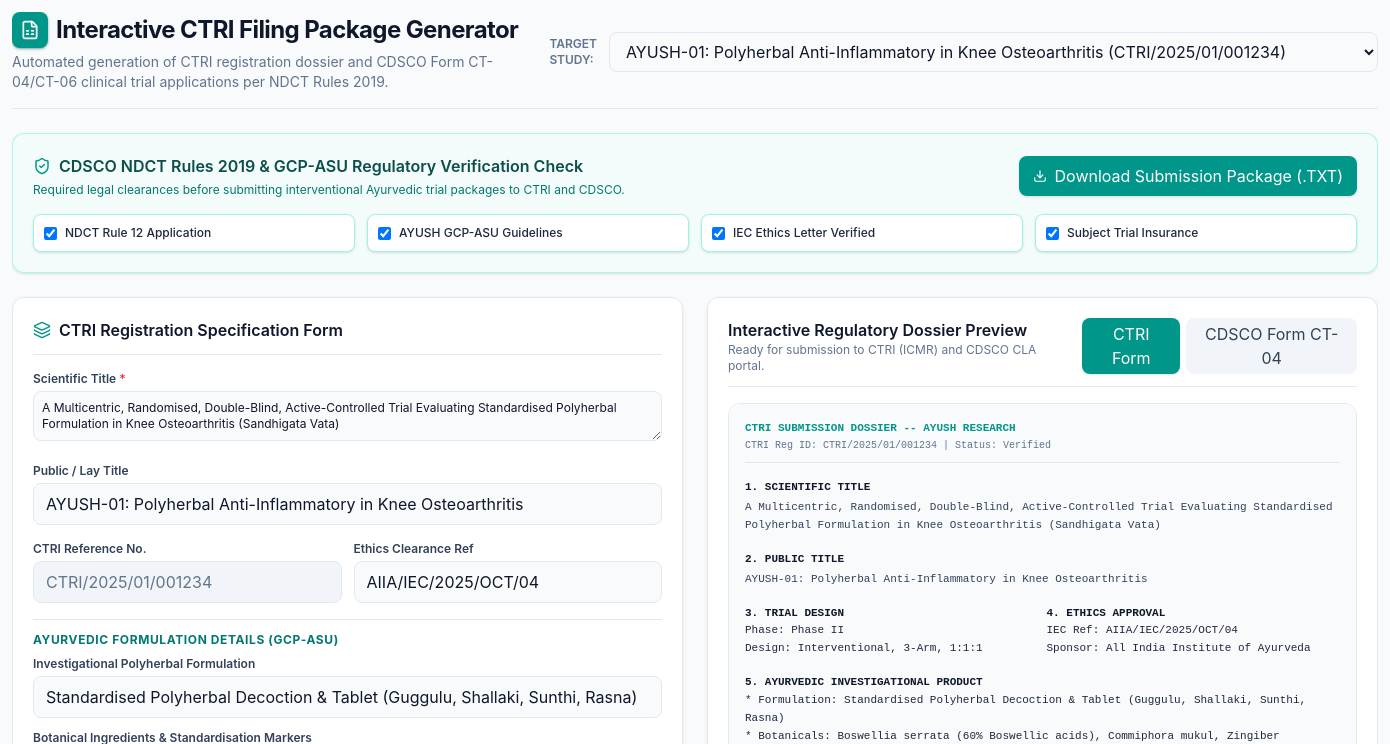
it: CtriFilingPage & CTRI / CDSCO Package Generator › switches between CTRI and CDSCO Form CT-04 dossier preview tabs
The width and height of the screenshot is (1390, 744).
Expected: the text "CTRI SUBMISSION DOSSIER -- AYUSH RESEARCH" is shown, [745,422,1016,434]
Step 1. Click the button "CDSCO Form CT-04" → [1272, 346], box [1186,318,1357,374]
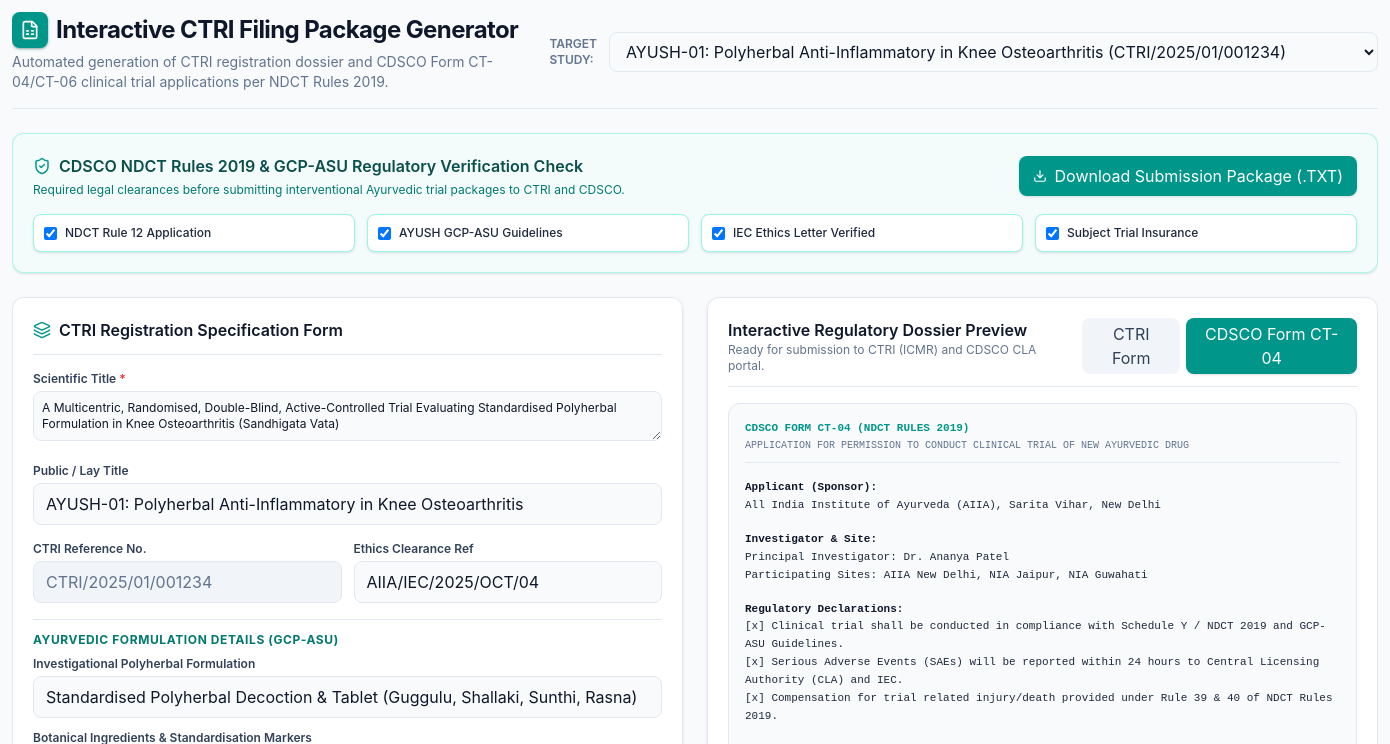
Expected: the text "CDSCO FORM CT-04 (NDCT RULES 2019)" is shown, [745,422,969,434]
Expected: the text "APPLICATION FOR PERMISSION TO CONDUCT CLINICAL TRIAL OF NEW AYURVEDIC DRUG" is shown, [745,440,1189,451]
